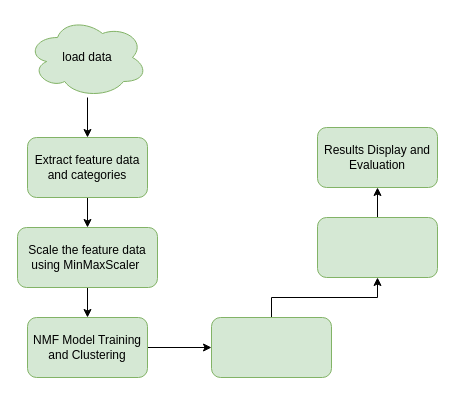
Some shapes in this 455 by 395 pixel diagram are drawn without their labels. Here are the shapes that lost their labels. From the top down, the centre of each, then its label:
At point 377,247: "Update and record the best Silhouette Coefficient".
At point 271,347: "Calculate the Silhouette Coefficient for each clustering result".
